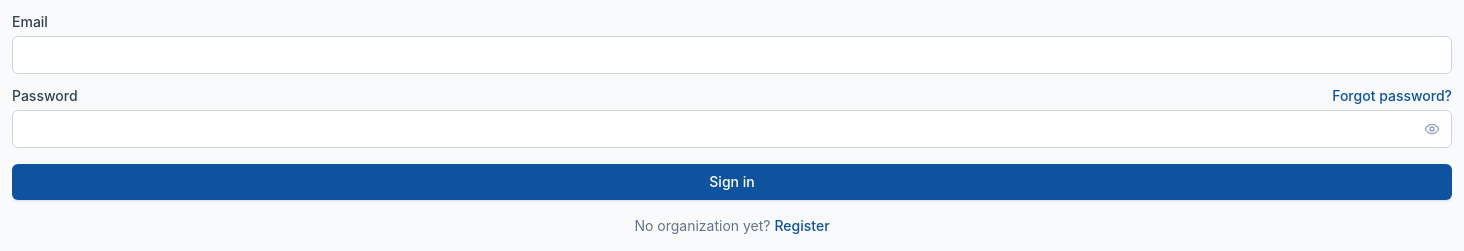
Scenario: ADR-058 — Forgot password › the login page links to it
Click the link "Forgot password?" at point(1392, 96), box [1332, 86, 1452, 106]
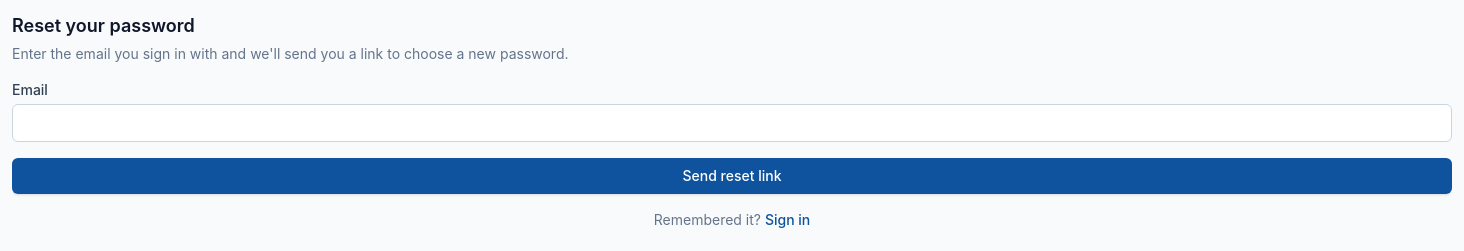
Expected: the heading "Reset your password" is shown, [12, 15, 195, 36]
